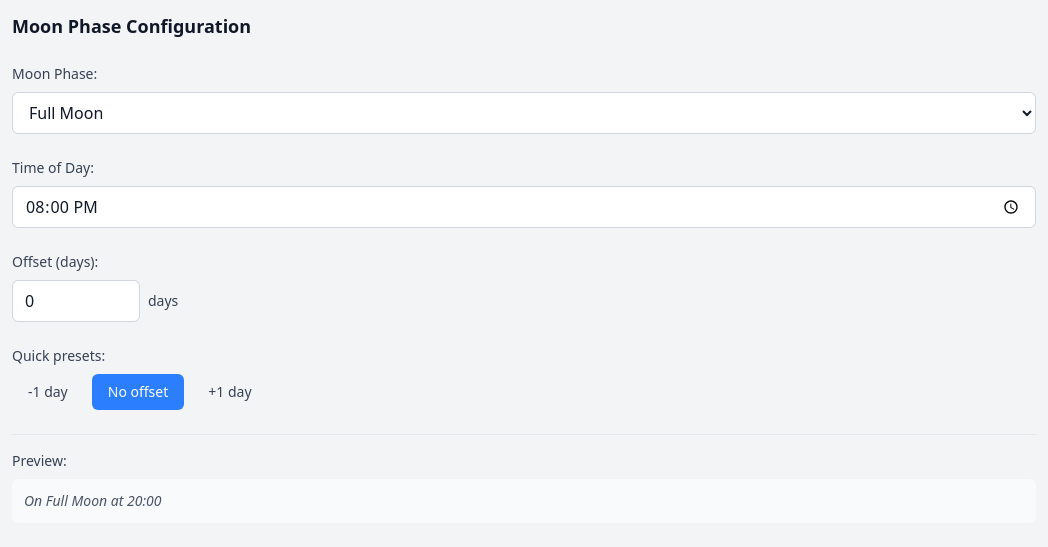
MoonPhaseTriggerForm › Offset Days Input › shows error and does not propagate when input is cleared
Step 1. Clear the number field named "Offset in days" → x=76, y=301, box [12,280,140,322]
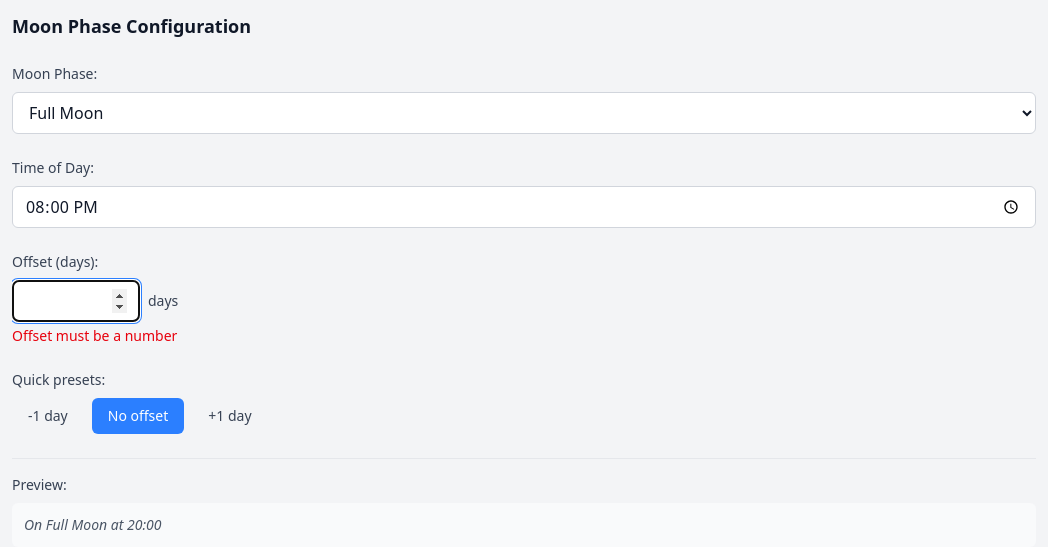
Result: the message "Offset must be a number" is shown at [12,326,177,345]
